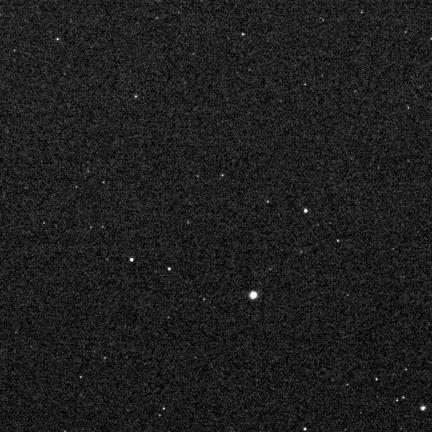blob: (250, 292, 257, 299), (304, 208, 309, 214), (421, 406, 426, 410), (242, 33, 246, 37), (168, 268, 172, 271), (130, 258, 134, 261)
